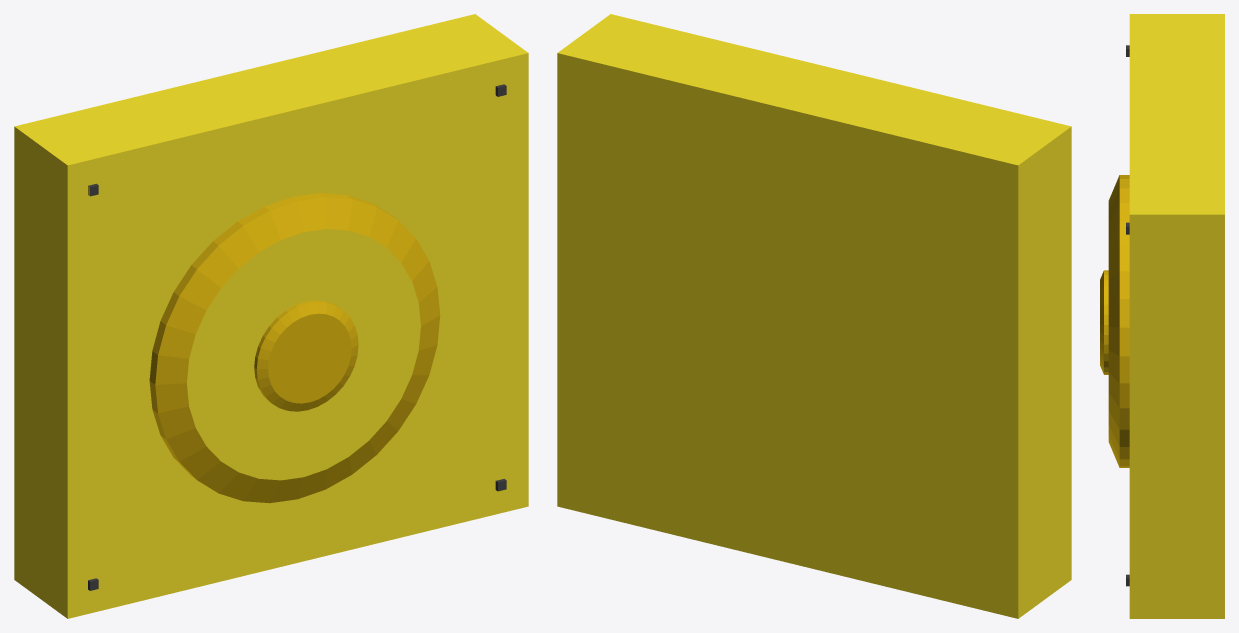
Rendered from VaultDoor.fbx.
3 views of the same model, side by side, from view 1: azimuth 30°, elevation 25°; view 2: azimuth 150°, elevation 25°; view 3: azimuth 270°, elevation 25° (orthographic). The views are drawn at different scales.
Parts seen in each view (by area): view 1: Cube.004; view 2: Cube.004; view 3: Cube.004.
Boxes of the visible parts, box(x1,y1,x2,y2) form: Cube.004: box(14, 14, 528, 618); Cube.004: box(557, 14, 1071, 618); Cube.004: box(1100, 14, 1224, 618).
Bounding box in the file's own units: 324 × 304 × 85.09.
Materials: 1 (1 with a texture image).
